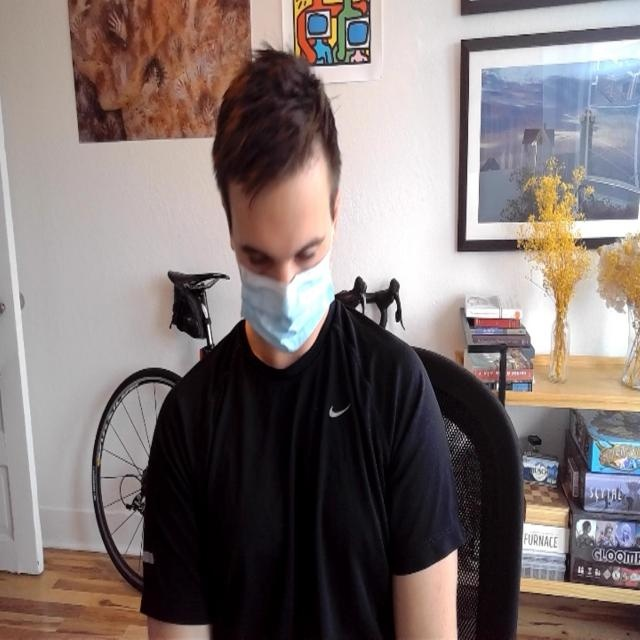Mask: (236, 242, 336, 352)
NO-Hardhat: (212, 45, 334, 178)
NO-Safety Vest: (188, 320, 412, 640)
Person: (140, 59, 468, 640)
